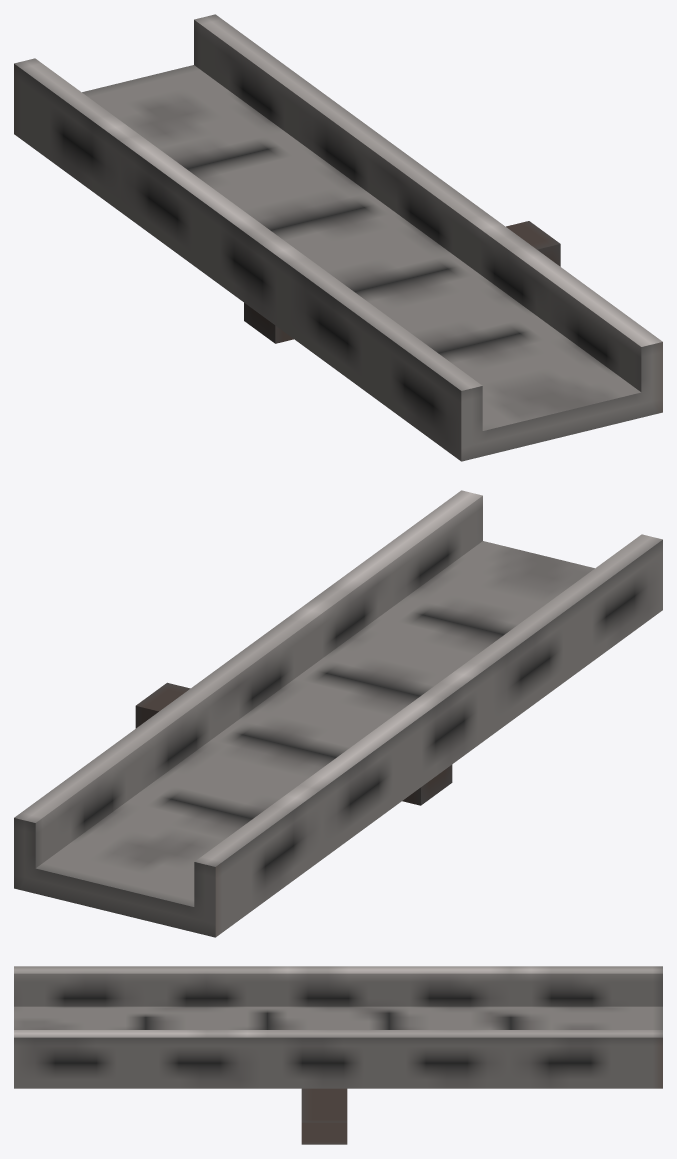
Rendered from obj_cableRail_05.fbx.
3 renders of one model, top to bottom at view 1: azimuth 30°, elevation 25°; view 2: azimuth 150°, elevation 25°; view 3: azimuth 270°, elevation 25°, orthographic. The views are drawn at different scales.
Visible parts, largest first — view 1: obj_cableRail_05; view 2: obj_cableRail_05; view 3: obj_cableRail_05.
Boxes of the visible parts, x1,y1,x2,y2 form: obj_cableRail_05: (14, 14, 662, 461); obj_cableRail_05: (14, 490, 662, 937); obj_cableRail_05: (14, 966, 662, 1144).
Size of the model in its own units: 19.2 by 6.23 by 50.
